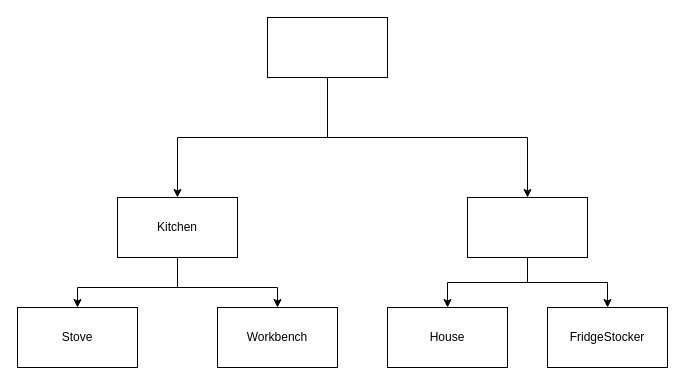
This 685x385 diagram has some shape labels left out. Here are the shapes that lost their labels. From the top down, the centre of each, then its label:
point 327,47: ResidentTest
point 527,227: Resident
